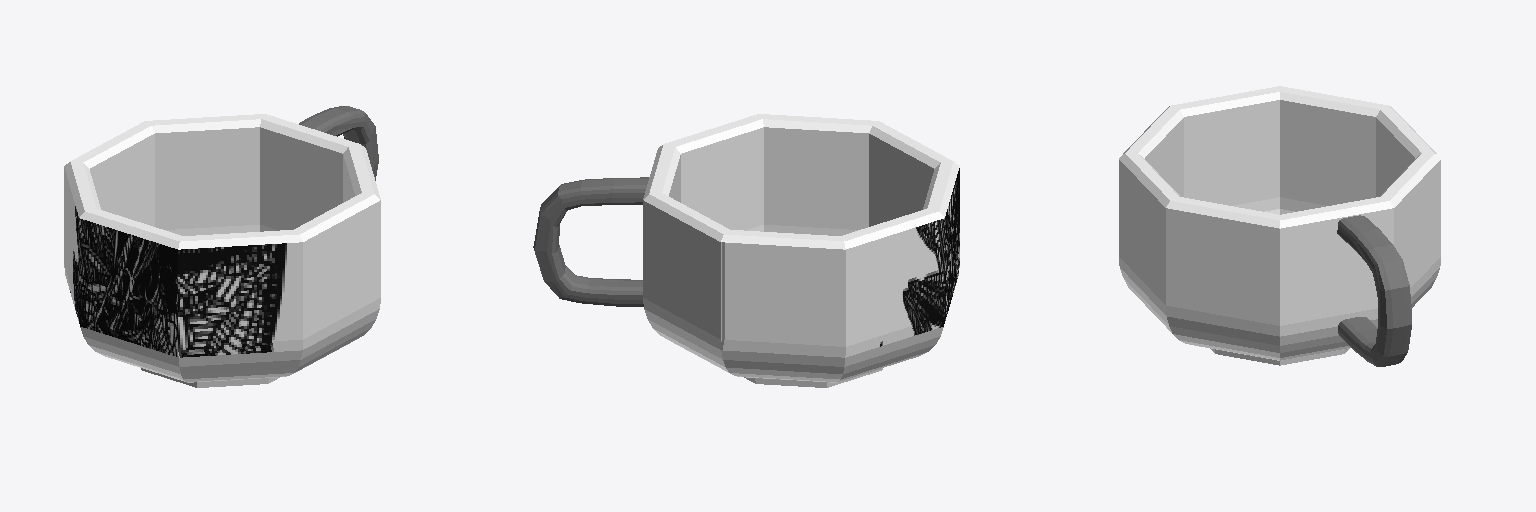
The picture shows the model from 3 angles: view 1: azimuth 30°, elevation 25°; view 2: azimuth 150°, elevation 25°; view 3: azimuth 270°, elevation 25°; orthographic projection.
Visible parts, largest first — view 1: vaso pCylinder1, pCube2 vaso; view 2: vaso pCylinder1, pCube2 vaso; view 3: vaso pCylinder1, pCube2 vaso.
Boxes of the visible parts, x1,y1,x2,y2 form: vaso pCylinder1: [64, 114, 380, 387]; pCube2 vaso: [299, 106, 378, 180]; vaso pCylinder1: [643, 114, 959, 387]; pCube2 vaso: [533, 177, 648, 306]; vaso pCylinder1: [1119, 86, 1440, 365]; pCube2 vaso: [1337, 215, 1411, 366].
Size of the model in its own units: 11.64 by 5.44 by 9.2.
Materials: 2 (1 with a texture image).